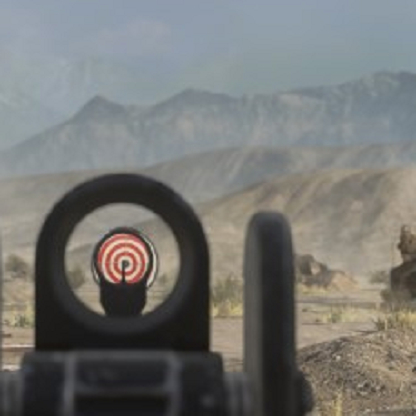target: (94, 230, 157, 284)
